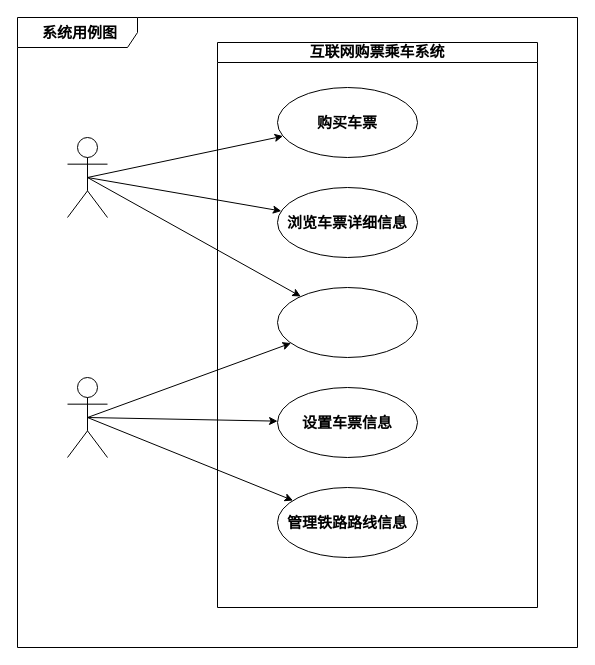
This 595x665 diagram has some shape labels left out. Each missing label, with the centre of its shape:
客户: [87,177]
管理个人基本信息: [347,322]
铁路管理员: [87,417]
